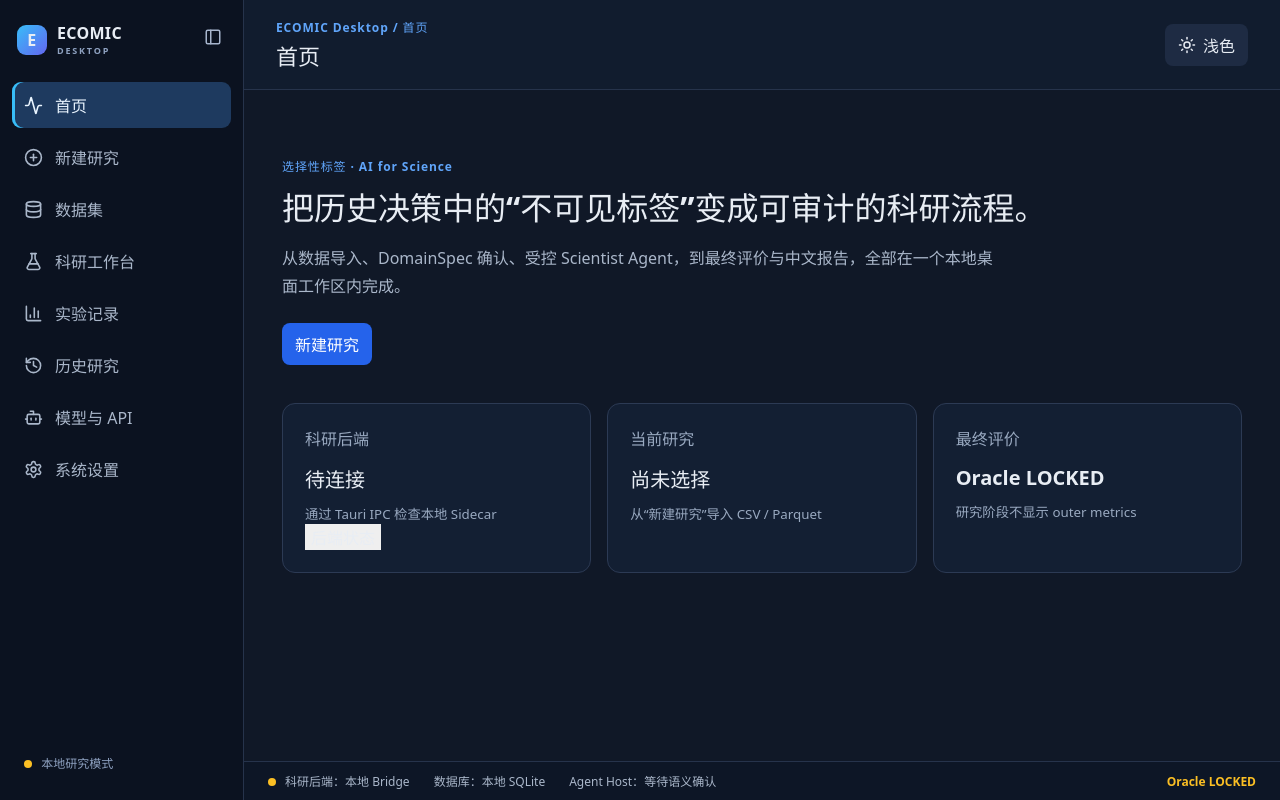
Test: DesktopBridge health UI › clicks through the bridge and renders the sidecar health response
Click the button "后端状态" at [343, 537], box [305, 524, 381, 550]
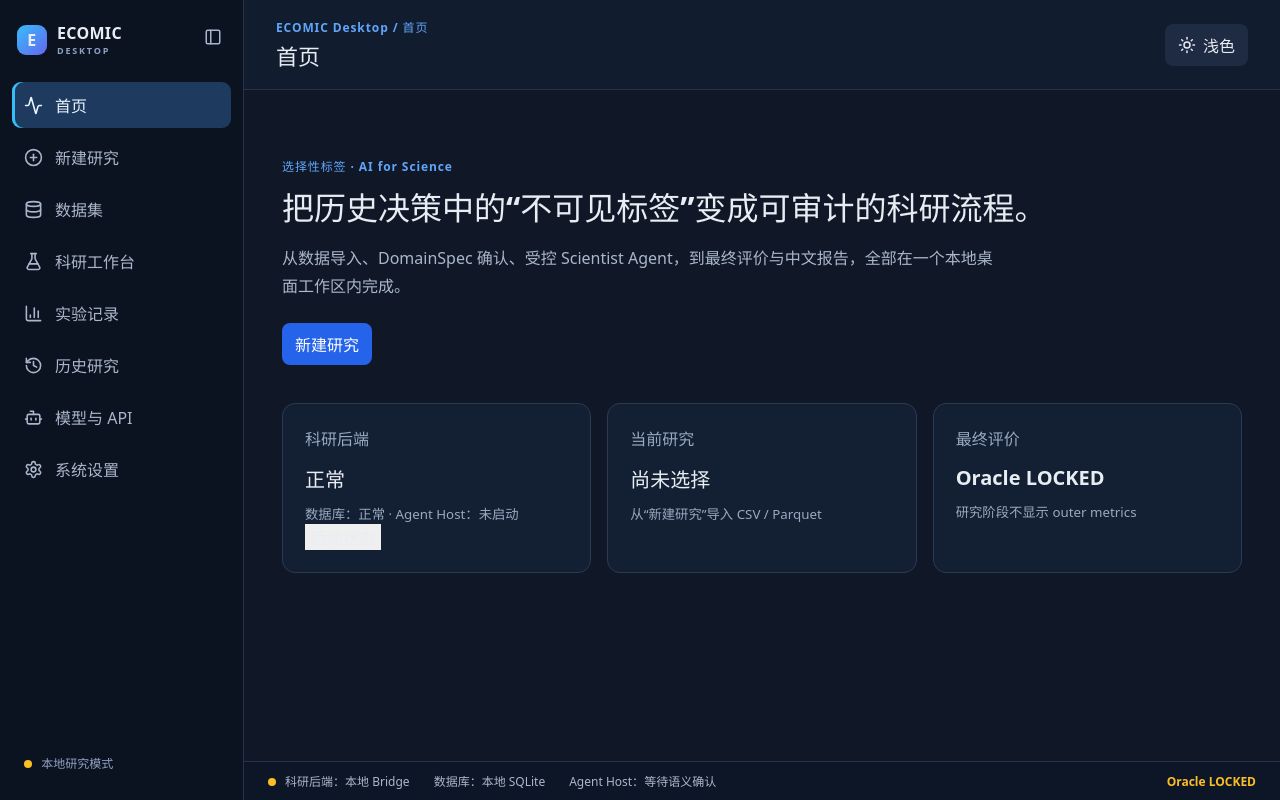
Expected: the heading "正常" is shown, [305, 466, 345, 493]
Expected: the text "数据库：正常 · Agent Host：未启动" is shown, [305, 505, 519, 523]
